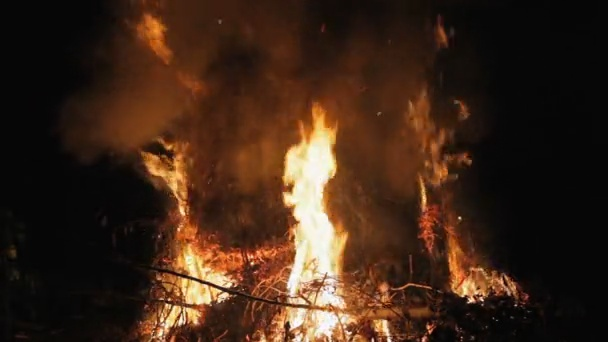fire: (280, 124, 345, 342), (152, 255, 225, 316), (452, 262, 506, 300), (418, 176, 426, 212)
